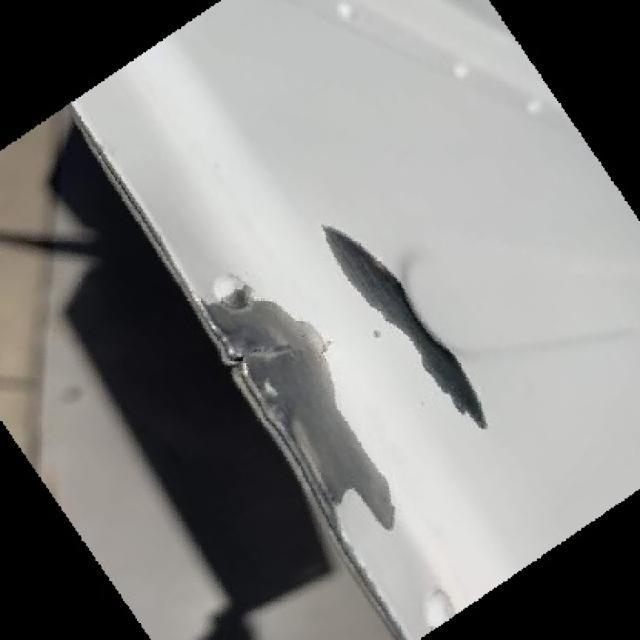crack: (227, 335, 320, 391)
